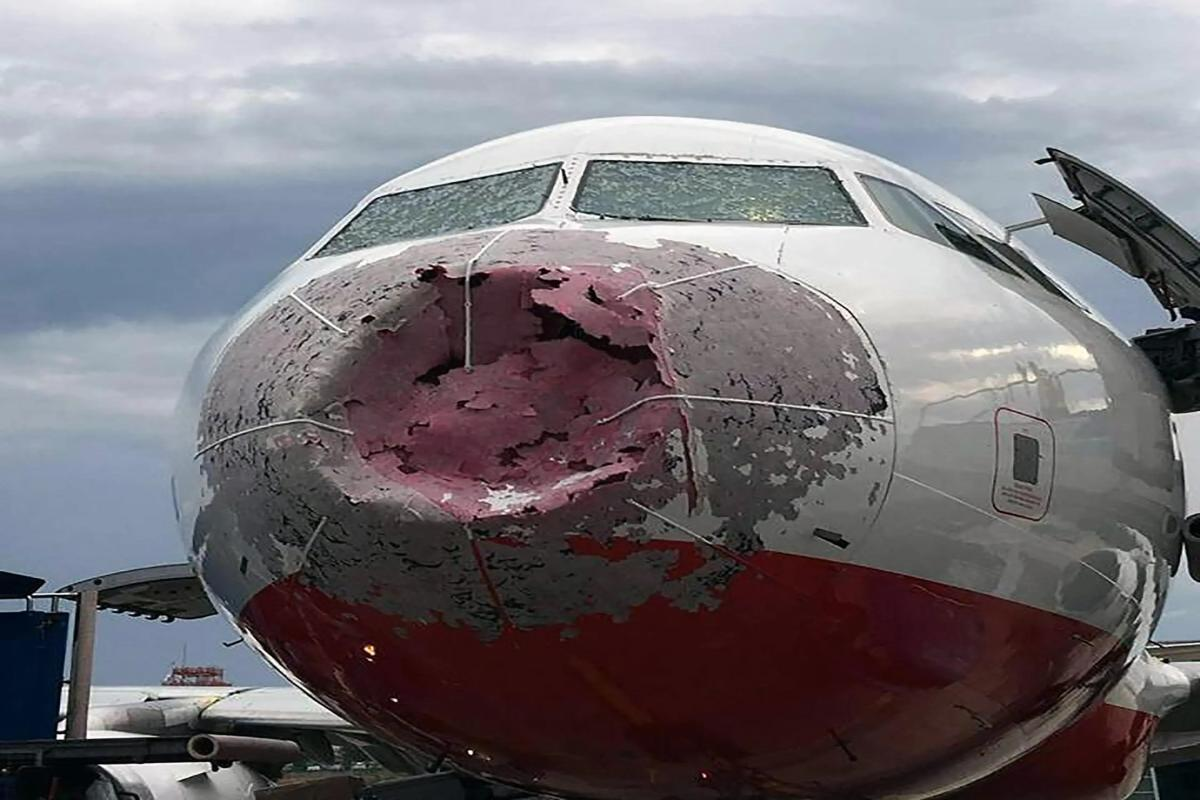Fuselage_damage: (190, 232, 898, 644)
